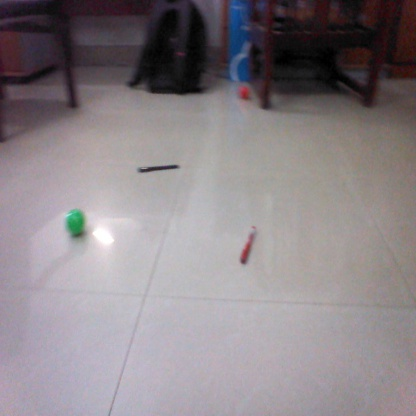ball: (60, 208, 88, 236), (236, 84, 253, 100)
pen: (239, 224, 257, 267), (137, 165, 183, 171)
